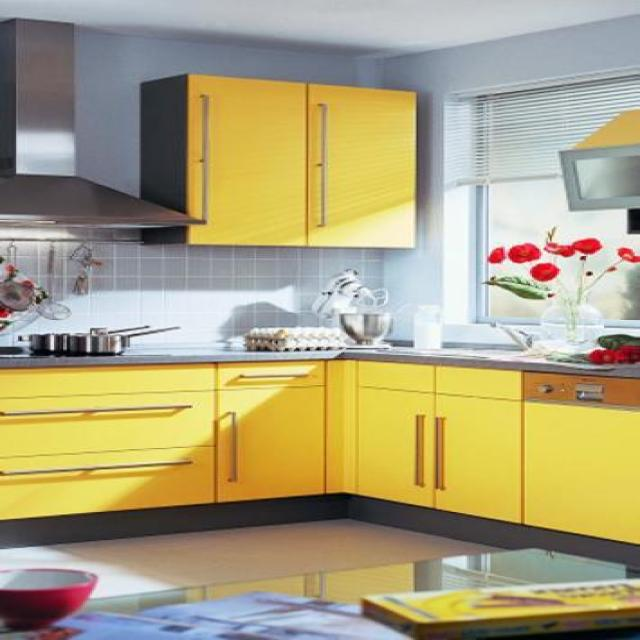other: (28, 371, 505, 507), (193, 81, 425, 253), (360, 596, 636, 628), (474, 234, 634, 289), (0, 562, 112, 619), (592, 119, 634, 141), (590, 348, 636, 364)
